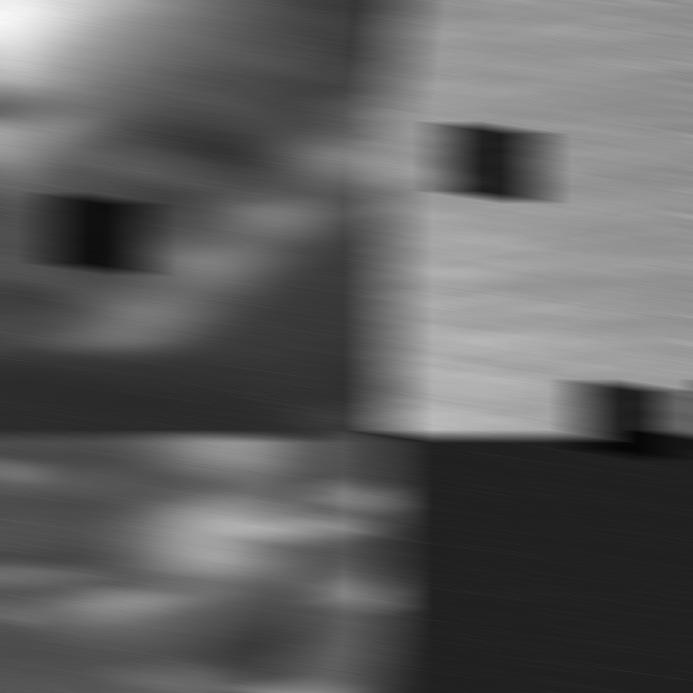Airbag: (0, 0, 399, 437), (377, 0, 693, 437), (0, 434, 399, 693)
